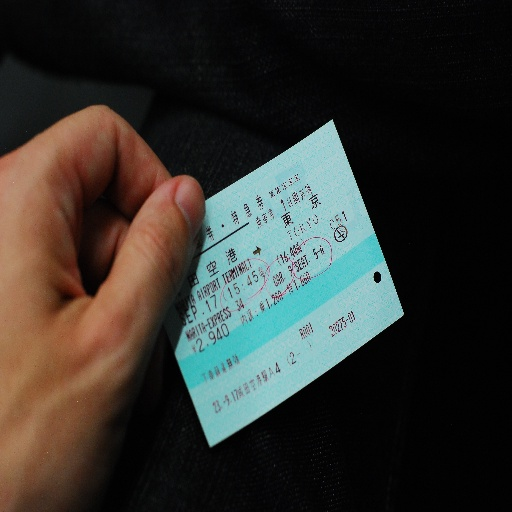hand: (0, 67, 193, 484)
